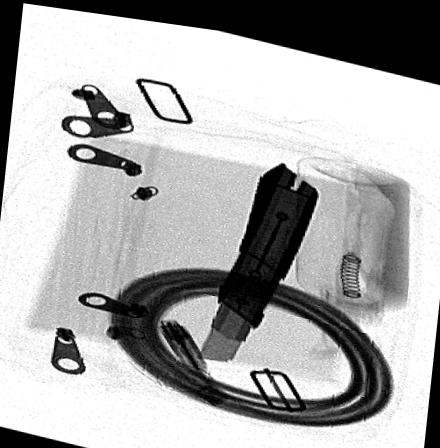Knife: (195, 151, 321, 356)
